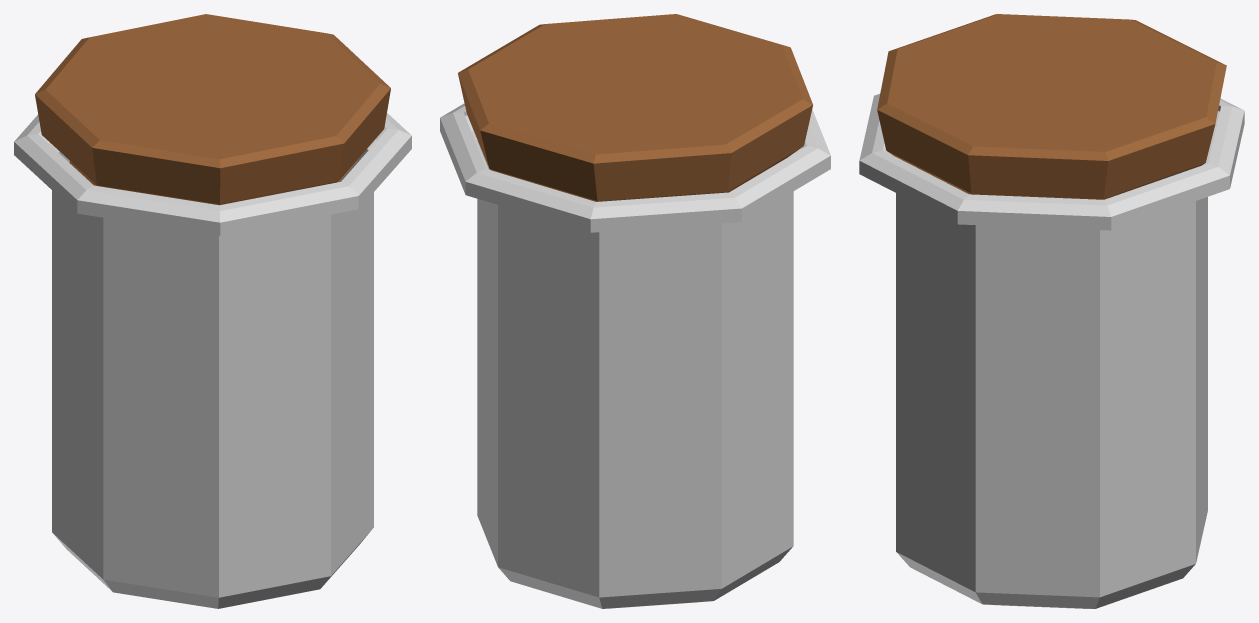
Rendered from Beaker.fbx.
The picture shows the model from 3 angles, left to right: view 1: azimuth 30°, elevation 25°; view 2: azimuth 150°, elevation 25°; view 3: azimuth 270°, elevation 25°; orthographic projection.
Parts seen in each view (by area): view 1: PotionTube.023; view 2: PotionTube.023; view 3: PotionTube.023.
Part boxes in pixels (x1,y1,x2,y2): PotionTube.023: [14, 14, 411, 608]; PotionTube.023: [440, 14, 830, 608]; PotionTube.023: [859, 14, 1244, 608].
Size of the model in its own units: 25.52 by 36 by 25.52.
